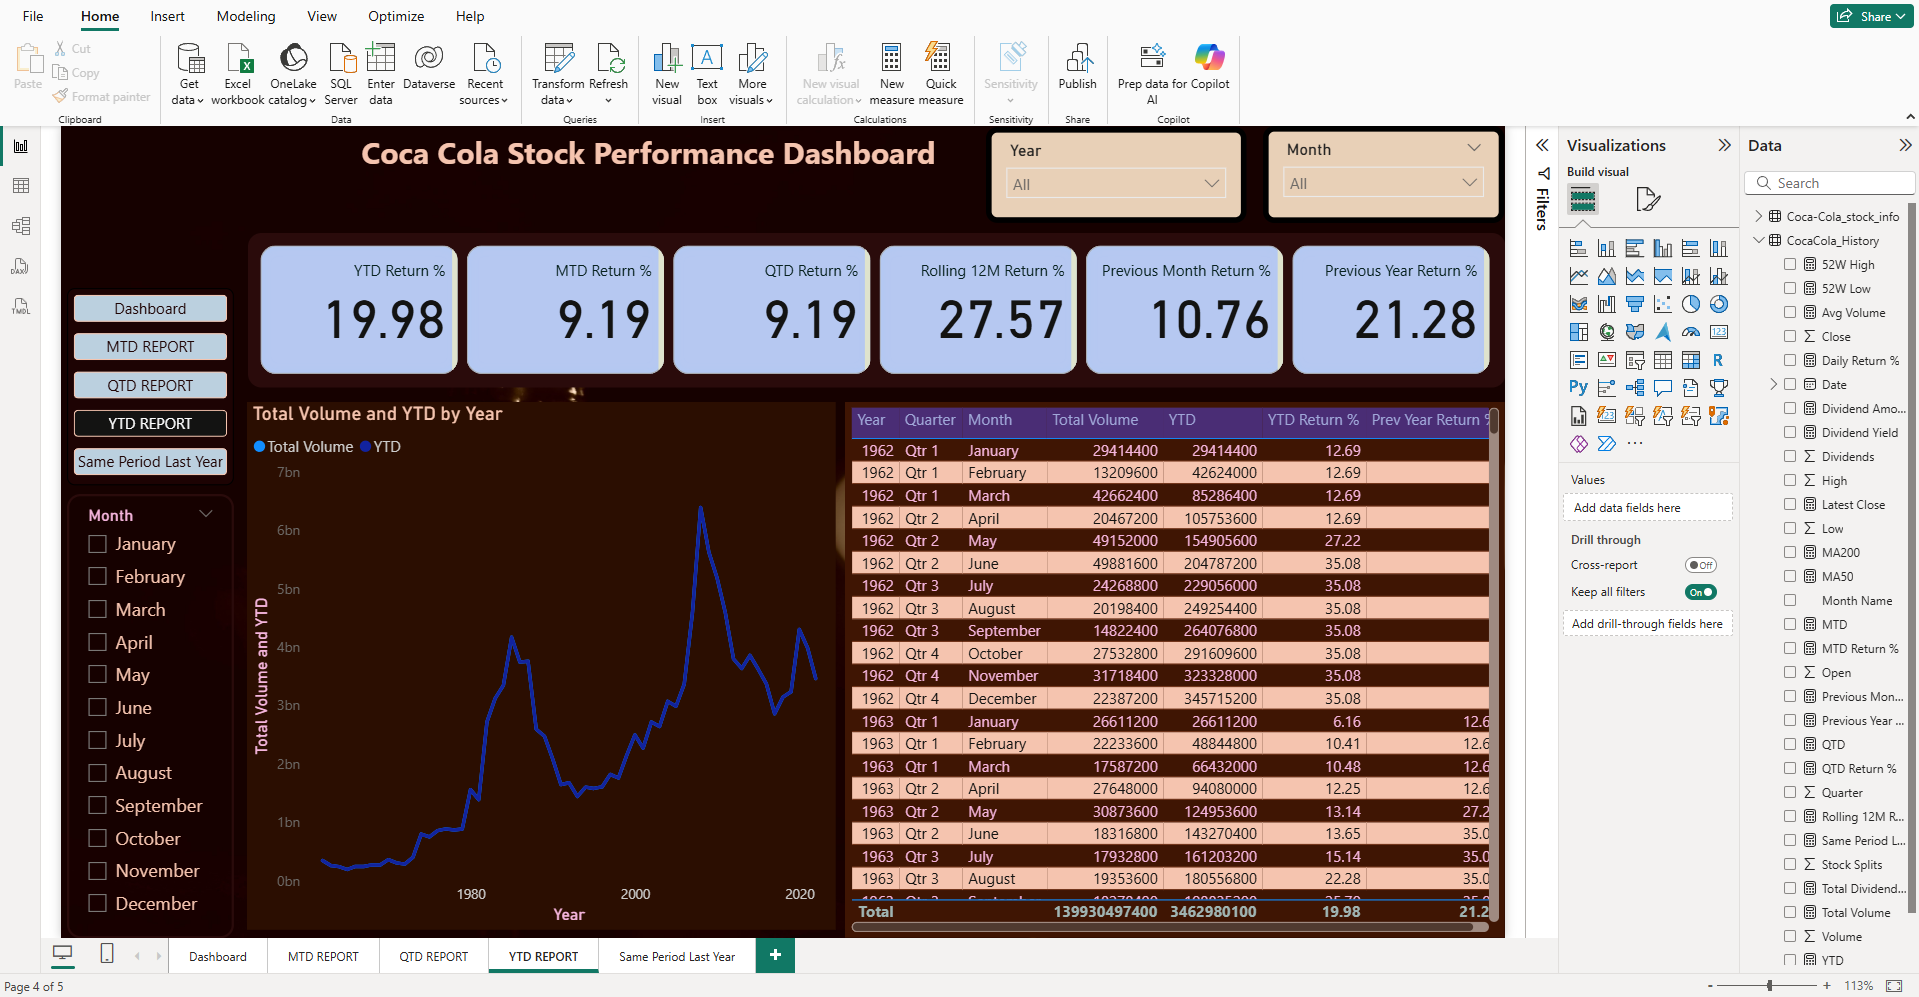

Layout of this report page (visuals, bound fields, positions):
{"tool":"powerbi","page":{"name":"YTD REPORT","canvas":[1280,720],"ordinal":3},"visuals":[{"type":"textbox","box":[229.5,0,582.6,61.3],"z":0},{"type":"slicer","fields":{"Values":["CocaCola_History.Date.Variation.Date Hierarchy.Month"]},"box":[1066,0,214,86],"z":1000},{"type":"slicer","fields":{"Values":["CocaCola_History.Date.Variation.Date Hierarchy.Month"]},"box":[5.3,326.3,148.1,393.7],"z":2000},{"type":"cardVisual","fields":{"Data":["CocaCola_History.YTD Return %","CocaCola_History.MTD Return %","CocaCola_History.QTD Return %","CocaCola_History.Rolling 12M Return %","CocaCola_History.Previous Month Return %","CocaCola_History.Previous Year Return %"]},"box":[165.8,94.9,1114.6,136.6],"z":3000},{"type":"lineChart","fields":{"Y":["CocaCola_History.Total Volume","CocaCola_History.YTD"],"Category":["CocaCola_History.Date.Variation.Date Hierarchy.Year"]},"box":[165.3,245.1,522.3,467.8],"z":4000},{"type":"tableEx","fields":{"Values":["CocaCola_History.Date.Variation.Date Hierarchy.Year","CocaCola_History.Date.Variation.Date Hierarchy.Quarter","CocaCola_History.Date.Variation.Date Hierarchy.Month","CocaCola_History.Total Volume","CocaCola_History.YTD","CocaCola_History.YTD Return %","CocaCola_History.Previous Year Return %"]},"box":[695.2,244.7,585.2,475.3],"z":5000},{"type":"slicer","fields":{"Values":["CocaCola_History.Date.Variation.Date Hierarchy.Year"]},"box":[820,1,231,85],"z":6000},{"type":"pageNavigator","box":[5.3,143.6,148.1,174.7],"z":7000}]}

Visuals, with their boxes on the page's 1280x720 design canvas (x1, y1, x2, y2). These are canvas units, not pixel positions in the 1919x997 screenshot, which may show the page scaled, cropped or inside an application window:
textbox: l=230, t=0, r=812, b=61
slicer - CocaCola_History.Date.Variation.Date Hierarchy.Month: l=1066, t=0, r=1280, b=86
slicer - CocaCola_History.Date.Variation.Date Hierarchy.Month: l=5, t=326, r=153, b=720
cardVisual - CocaCola_History.YTD Return % x CocaCola_History.MTD Return %: l=166, t=95, r=1280, b=232
lineChart - CocaCola_History.Total Volume x CocaCola_History.YTD: l=165, t=245, r=688, b=713
tableEx - CocaCola_History.Date.Variation.Date Hierarchy.Year x CocaCola_History.Date.Variation.Date Hierarchy.Quarter: l=695, t=245, r=1280, b=720
slicer - CocaCola_History.Date.Variation.Date Hierarchy.Year: l=820, t=1, r=1051, b=86
pageNavigator: l=5, t=144, r=153, b=318
